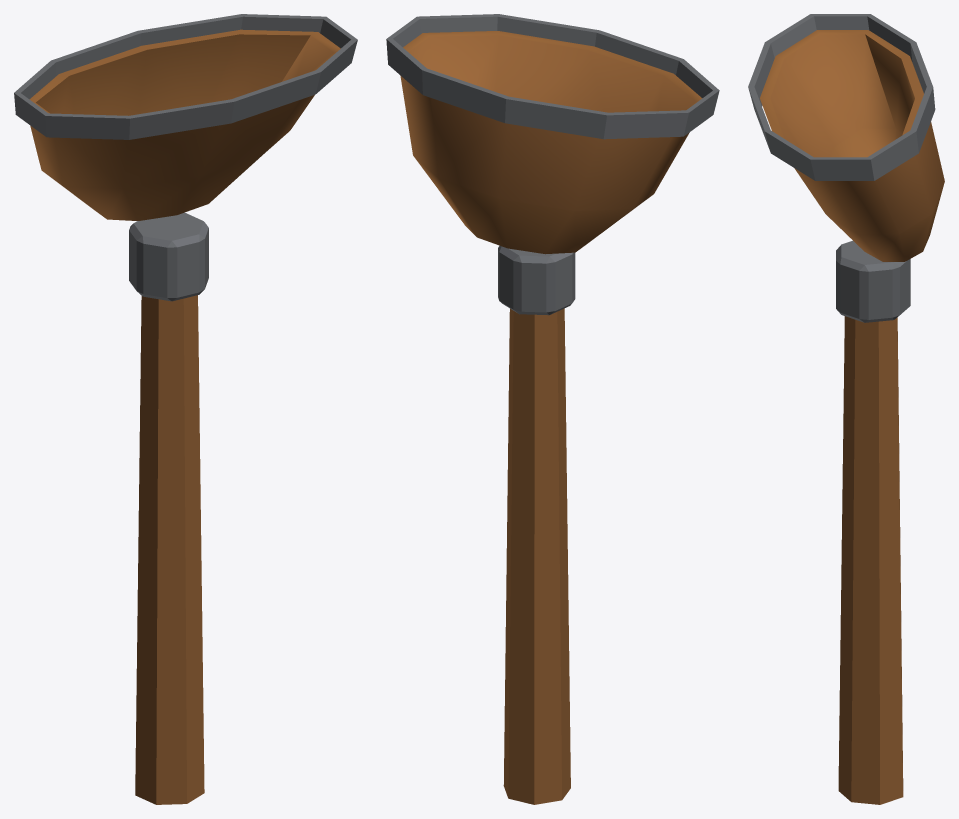
Rendered from tool_workstation_scoop_a.glb.
3 renders of one model, left to right at view 1: azimuth 30°, elevation 25°; view 2: azimuth 150°, elevation 25°; view 3: azimuth 270°, elevation 25°, orthographic. The views are drawn at different scales.
Visible parts, largest first — view 1: workstation_scoop_bowl, workstation_scoop_ferrule; view 2: workstation_scoop_bowl, workstation_scoop_ferrule; view 3: workstation_scoop_bowl, workstation_scoop_ferrule.
Boxes of the visible parts, <box> form: workstation_scoop_bowl: <box>29,29,340,804</box>; workstation_scoop_ferrule: <box>14,14,357,301</box>; workstation_scoop_bowl: <box>400,31,702,804</box>; workstation_scoop_ferrule: <box>386,14,719,315</box>; workstation_scoop_bowl: <box>760,30,944,804</box>; workstation_scoop_ferrule: <box>748,14,935,322</box>.
Bounding box in the file's own units: 0.3239 × 0.73 × 0.185.
